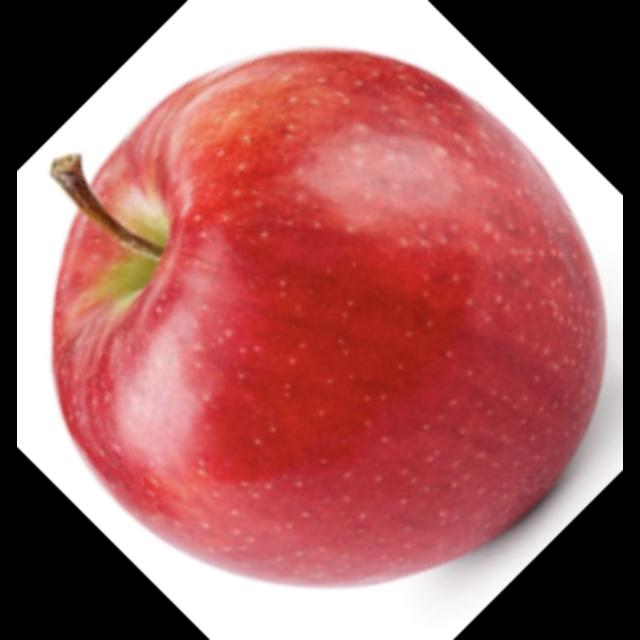Apel Segar: (44, 43, 602, 587)
